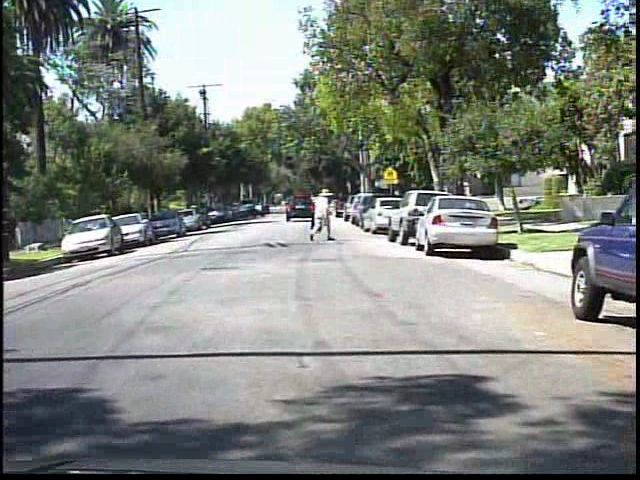person: (307, 185, 339, 243)
